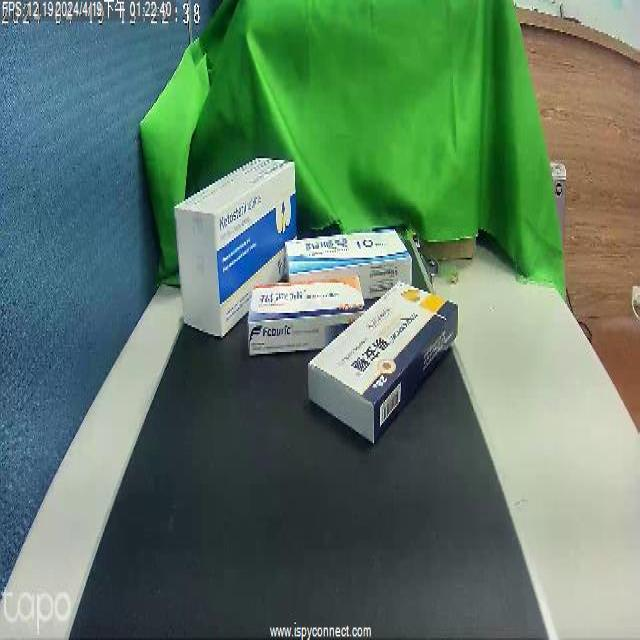box: (185, 151, 302, 335), (323, 275, 443, 423), (241, 260, 358, 374), (286, 218, 407, 291)
